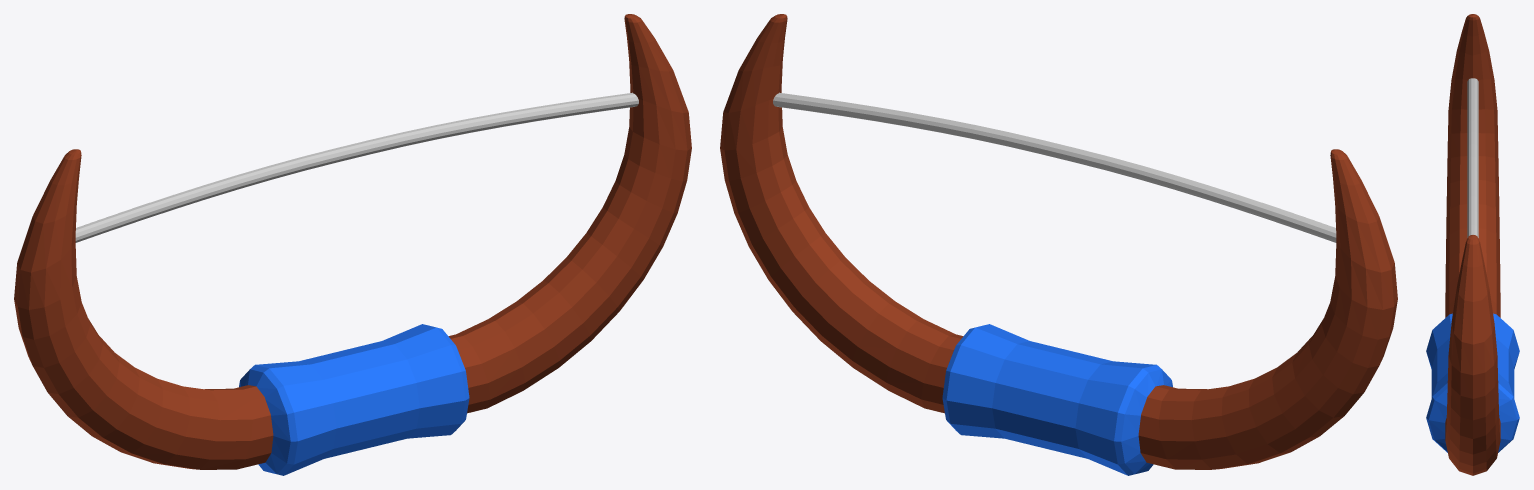
The model's file is bow_teamBlue.obj.
3 renders of one model, left to right at view 1: azimuth 30°, elevation 25°; view 2: azimuth 150°, elevation 25°; view 3: azimuth 270°, elevation 25°, orthographic. The views are drawn at different scales.
Parts seen in each view (by area): view 1: bow_teamBlue_Cube.1320; view 2: bow_teamBlue_Cube.1320; view 3: bow_teamBlue_Cube.1320.
Part boxes in pixels (<box>): bow_teamBlue_Cube.1320: <box>14,14,691,475</box>; bow_teamBlue_Cube.1320: <box>720,14,1397,475</box>; bow_teamBlue_Cube.1320: <box>1426,14,1519,475</box>.
Bounding box in the file's own units: 1.54 × 0.8126 × 0.2289.
